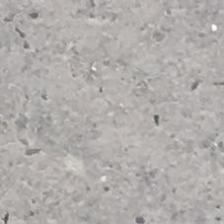Non_Crack: (25, 44, 224, 207)
